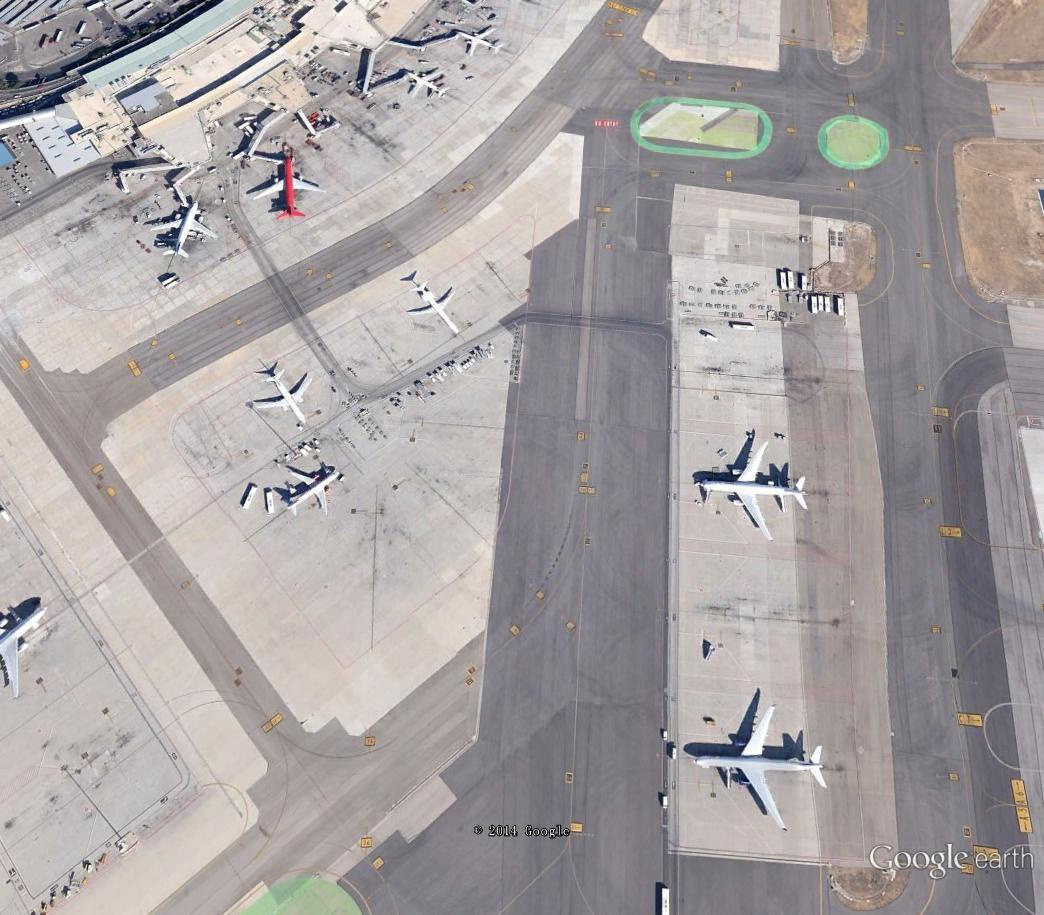aircraft: (690, 701, 829, 836), (695, 433, 814, 544), (251, 155, 331, 224), (245, 362, 319, 428), (147, 198, 223, 260), (279, 459, 345, 519), (404, 278, 467, 340), (451, 21, 509, 61), (404, 65, 455, 104)
